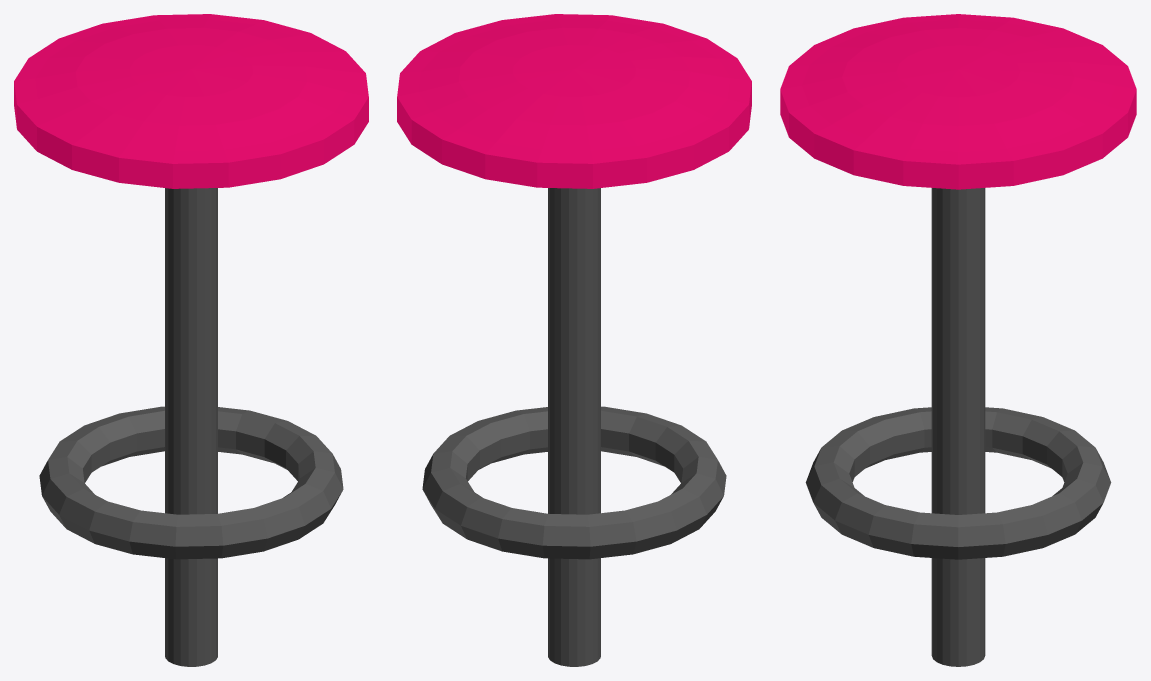
File: chair.fbx
3 renders of one model, left to right at view 1: azimuth 30°, elevation 25°; view 2: azimuth 150°, elevation 25°; view 3: azimuth 270°, elevation 25°, orthographic.
Parts seen in each view (by area): view 1: chairtop, Chair; view 2: chairtop, Chair; view 3: chairtop, Chair.
Boxes of the visible parts, box(x1,y1,x2,y2) form: chairtop: box(14, 14, 368, 188); Chair: box(39, 188, 343, 666); chairtop: box(397, 14, 751, 188); Chair: box(422, 188, 726, 666); chairtop: box(780, 14, 1136, 189); Chair: box(805, 188, 1111, 666).
Size of the model in its own units: 0.4667 by 0.8467 by 0.4667.
